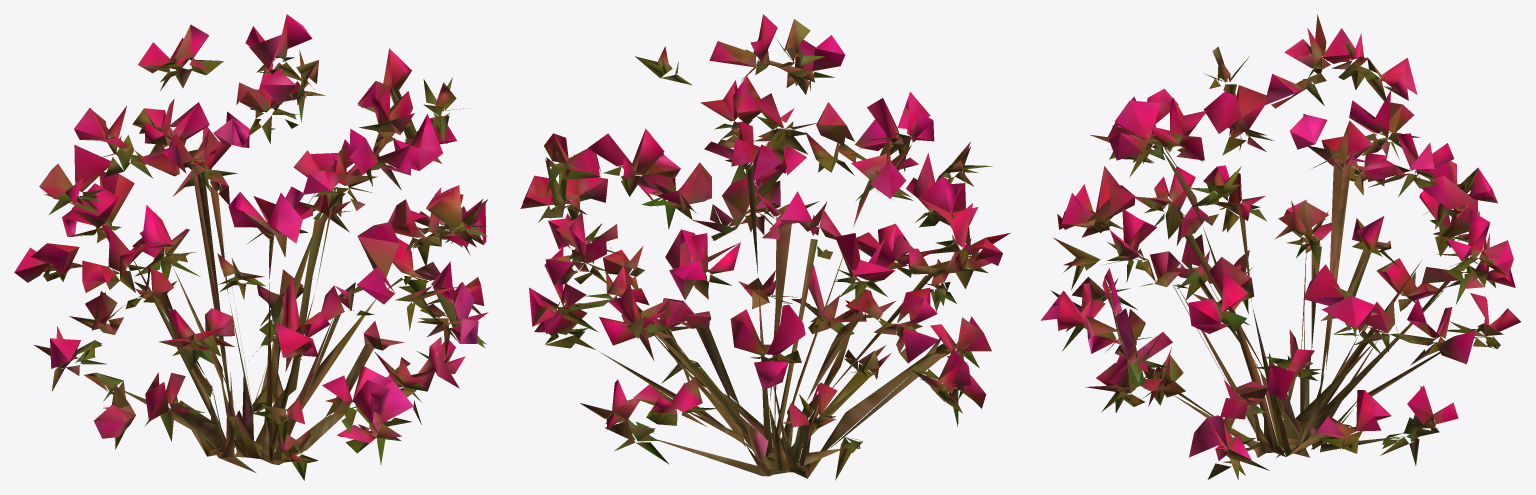
The model's file is arbusto_flor_lod1.glb.
3 views of the same model, side by side, from view 1: azimuth 30°, elevation 25°; view 2: azimuth 150°, elevation 25°; view 3: azimuth 270°, elevation 25° (orthographic).
Parts seen in each view (by area): view 1: arbusto_flor; view 2: arbusto_flor; view 3: arbusto_flor.
Part boxes in pixels (box(x1,y1,x2,y2)): arbusto_flor: box(14, 14, 488, 480); arbusto_flor: box(520, 14, 1010, 480); arbusto_flor: box(1041, 14, 1520, 479).
Size of the model in its own units: 1.19 by 1.12 by 1.16.
Materials: 1 (1 with a texture image).
